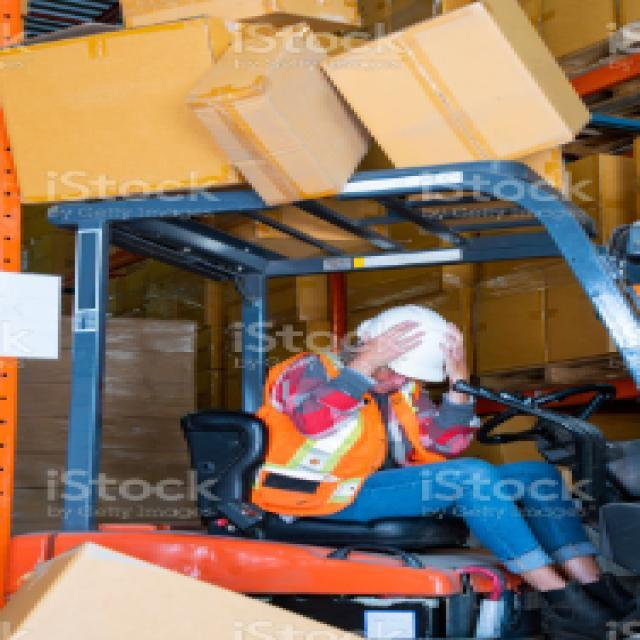hard_hat: (361, 301, 475, 397)
shoes: (517, 567, 639, 640)
vest: (243, 344, 463, 525)
